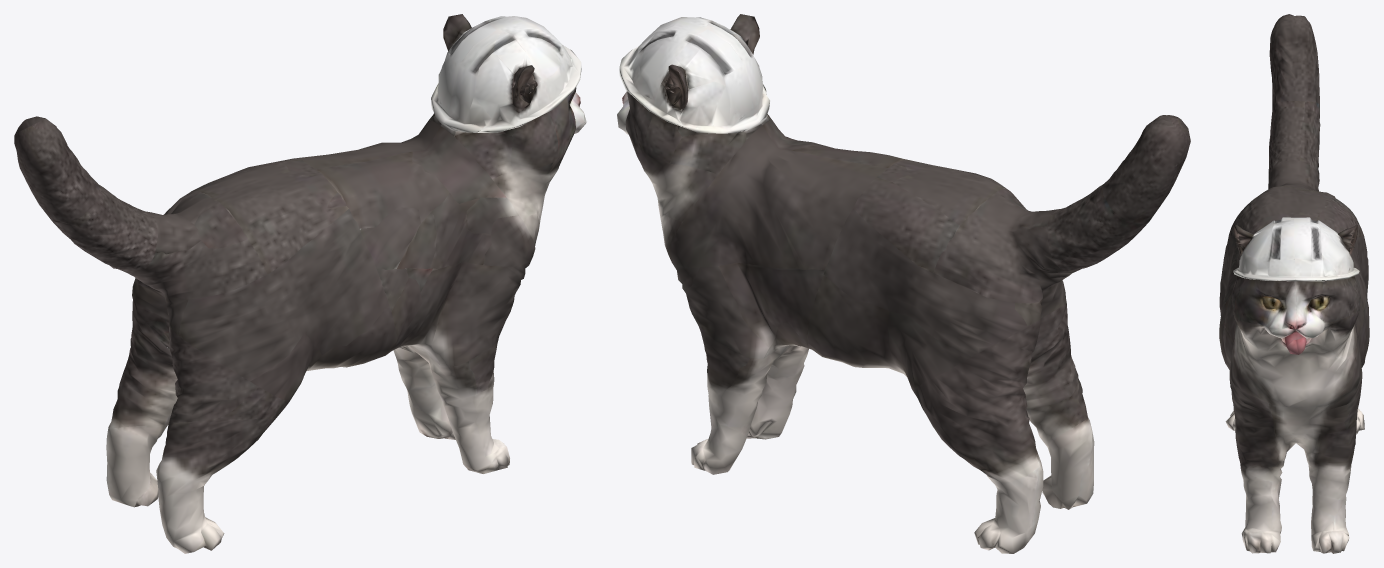
File: YOSHINEKO-lo.glb
The picture shows the model from 3 angles, left to right: view 1: azimuth 30°, elevation 25°; view 2: azimuth 150°, elevation 25°; view 3: azimuth 270°, elevation 25°; orthographic projection. The views are drawn at different scales.
Visible parts, largest first — view 1: tripo_node_e050ab82-661b-4fae-a948-343df01fb6e7; view 2: tripo_node_e050ab82-661b-4fae-a948-343df01fb6e7; view 3: tripo_node_e050ab82-661b-4fae-a948-343df01fb6e7.
Boxes of the visible parts, bbox=[...] form: tripo_node_e050ab82-661b-4fae-a948-343df01fb6e7: bbox=[14, 14, 586, 553]; tripo_node_e050ab82-661b-4fae-a948-343df01fb6e7: bbox=[617, 14, 1190, 553]; tripo_node_e050ab82-661b-4fae-a948-343df01fb6e7: bbox=[1219, 14, 1369, 553].
Size of the model in its own units: 1.34 by 0.9993 by 0.3772.
Materials: 1 (1 with a texture image).
